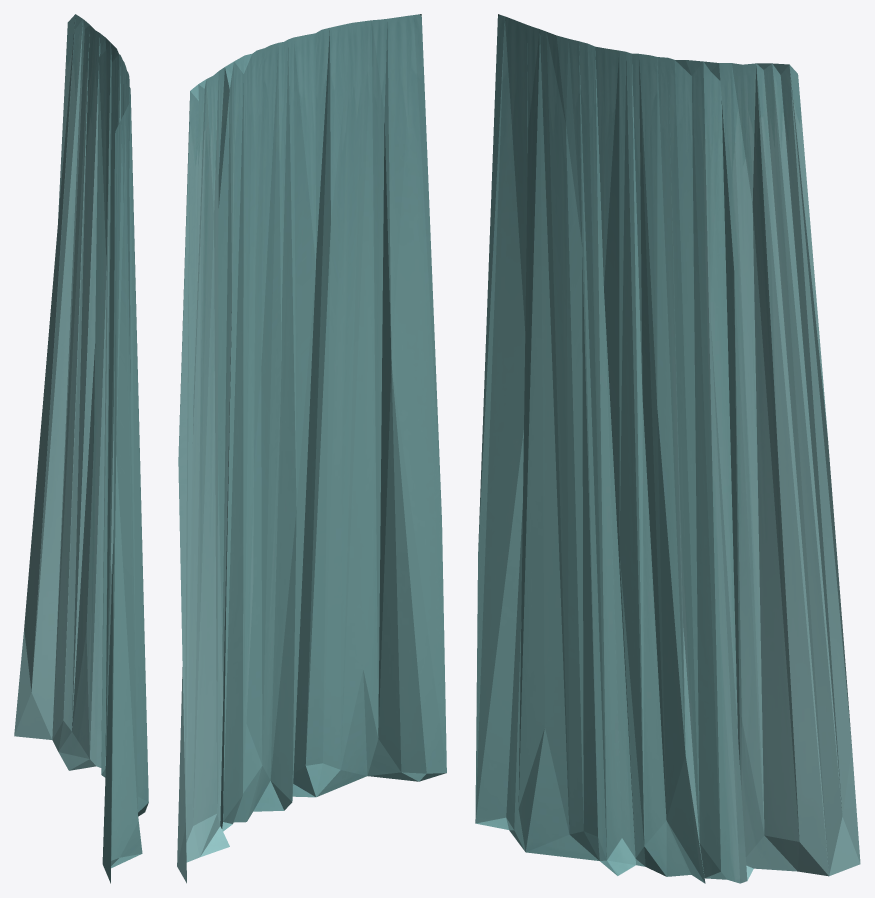
The model's file is curtain2_05.glb.
3 views of the same model, side by side, from view 1: azimuth 30°, elevation 25°; view 2: azimuth 150°, elevation 25°; view 3: azimuth 270°, elevation 25° (orthographic). The views are drawn at different scales.
Visible parts, largest first — view 1: CURTAIN2.small.001; view 2: CURTAIN2.small.001; view 3: CURTAIN2.small.001.
Boxes of the visible parts, <box> form: CURTAIN2.small.001: <box>14,14,148,883</box>; CURTAIN2.small.001: <box>177,14,446,883</box>; CURTAIN2.small.001: <box>475,14,860,883</box>.
Bounding box in the file's own units: 1.74 × 10.93 × 4.66.
1 material, 1 textured.
